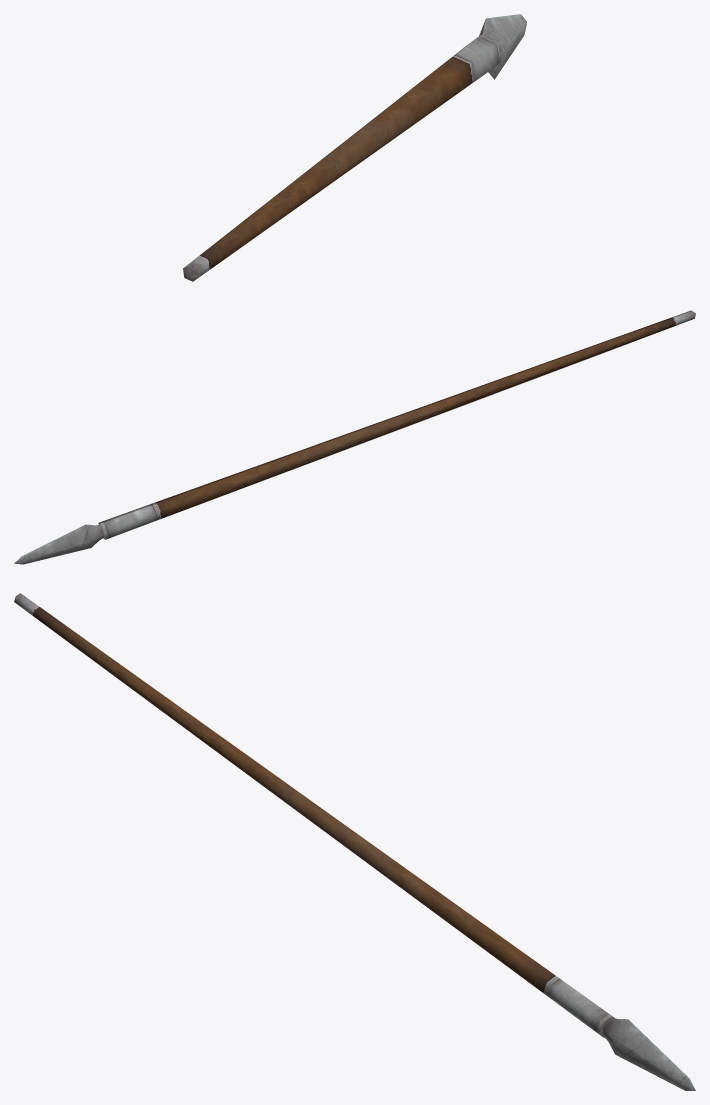
The model's file is weapon-base.glb.
The picture shows the model from 3 angles, top to bottom: view 1: azimuth 30°, elevation 25°; view 2: azimuth 150°, elevation 25°; view 3: azimuth 270°, elevation 25°; orthographic projection. The views are drawn at different scales.
Size of the model in its own units: 1.25 by 0.481 by 1.31.
1 material, 1 textured.
